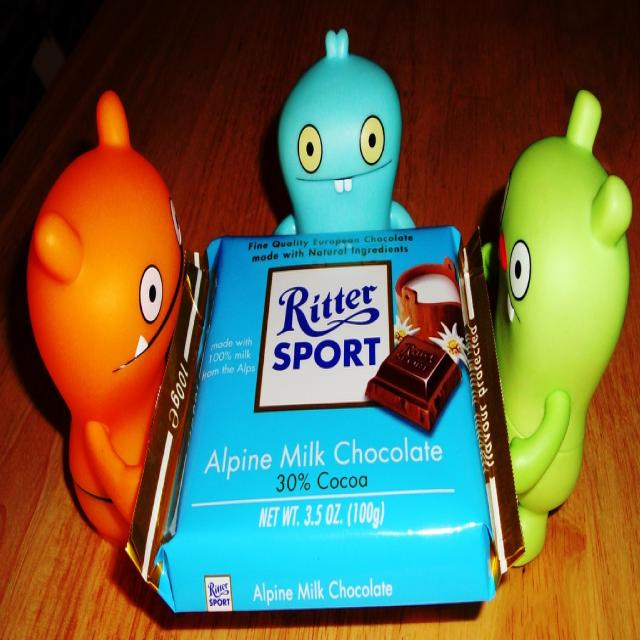rittersport: (255, 262, 395, 414)
